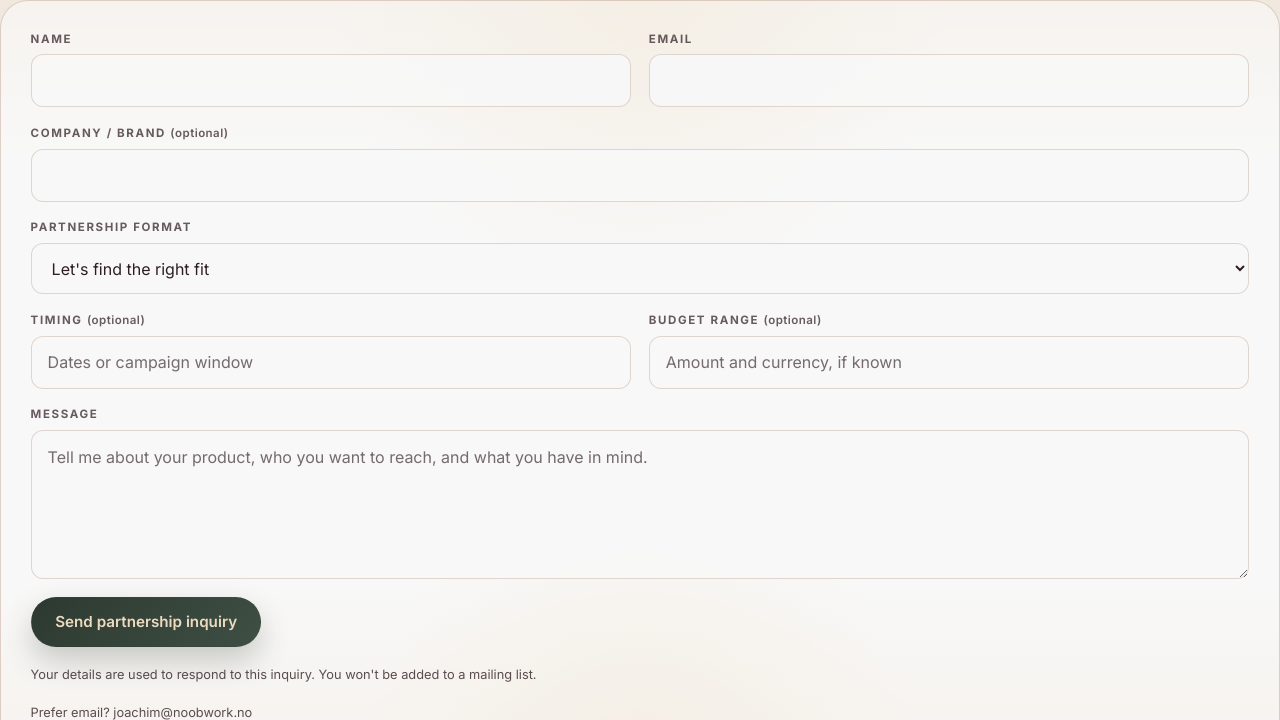
Test: ContactForm › shows success state after a successful submit
The width and height of the screenshot is (1280, 720).
Type "Alex Brand" into the field labelled "Name" at (331, 81), box left=31, top=54, right=631, bottom=108
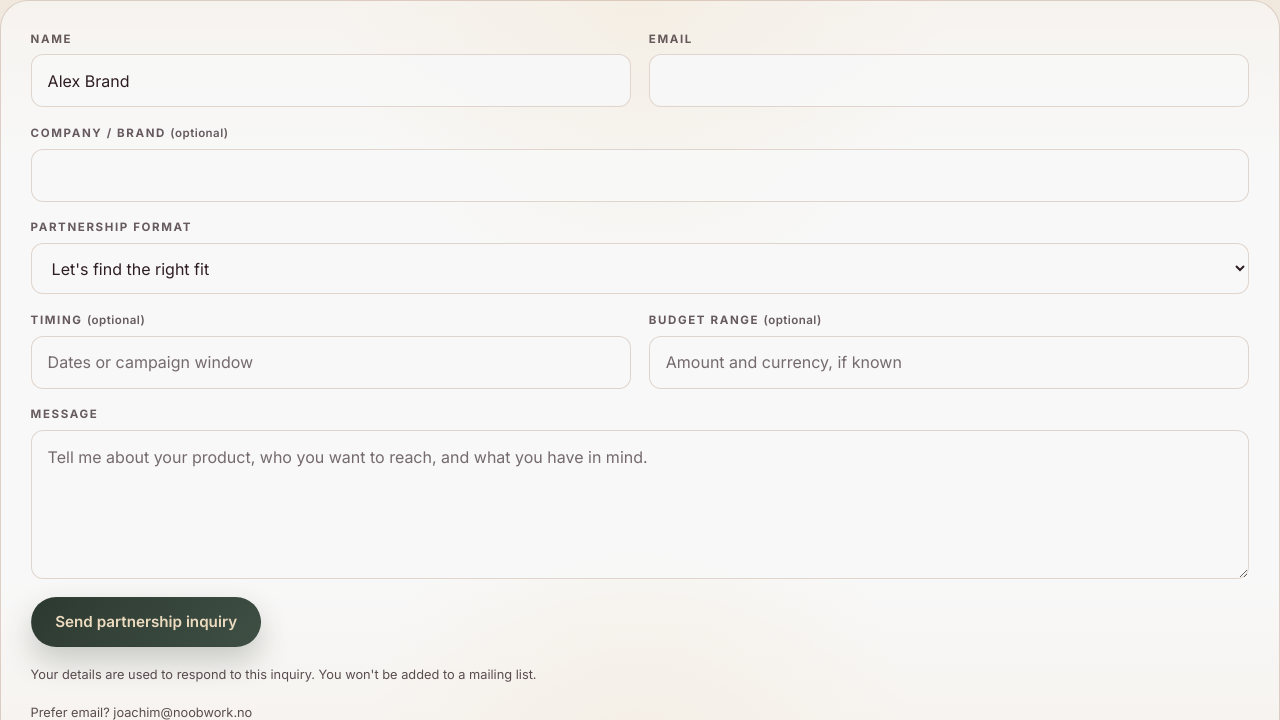
Type "alex@brand.no" into the field labelled "Email" at (949, 81), box left=649, top=54, right=1249, bottom=108
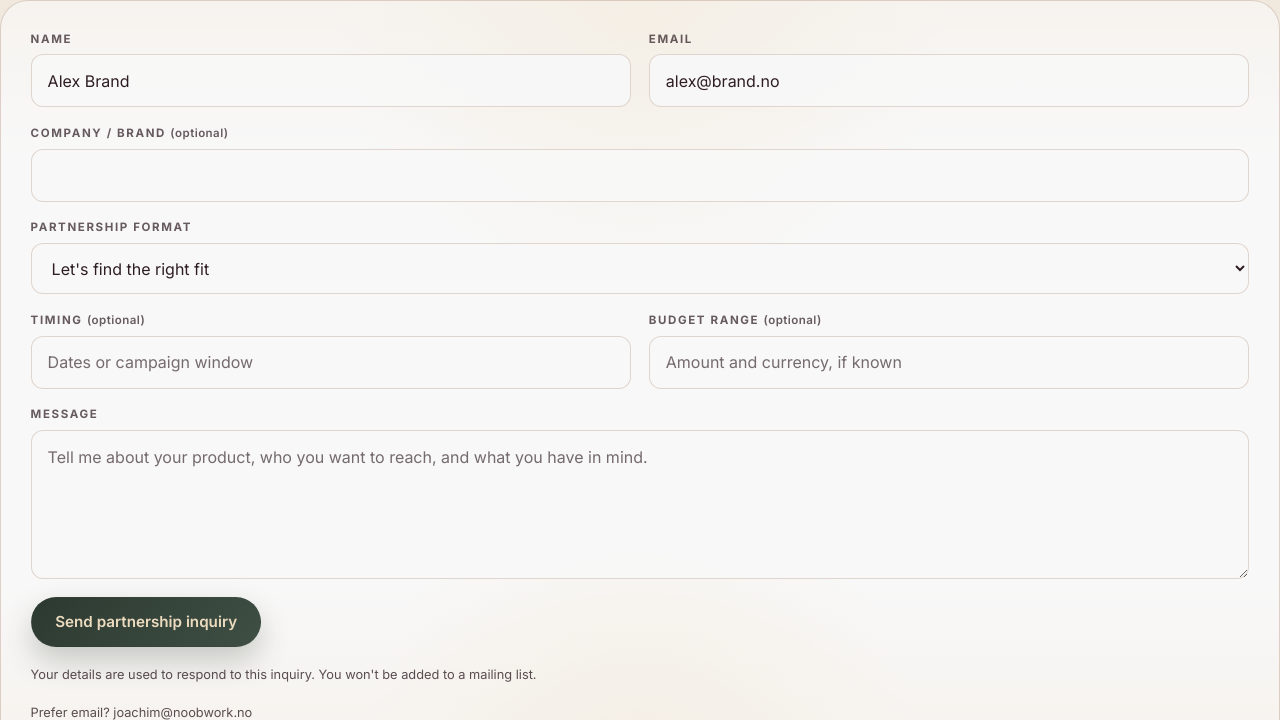
Replace the text in the text box labelled "Message" with "We would love to explore a Q3 campaign across YouTube and IG." at (640, 505), box left=31, top=430, right=1249, bottom=579
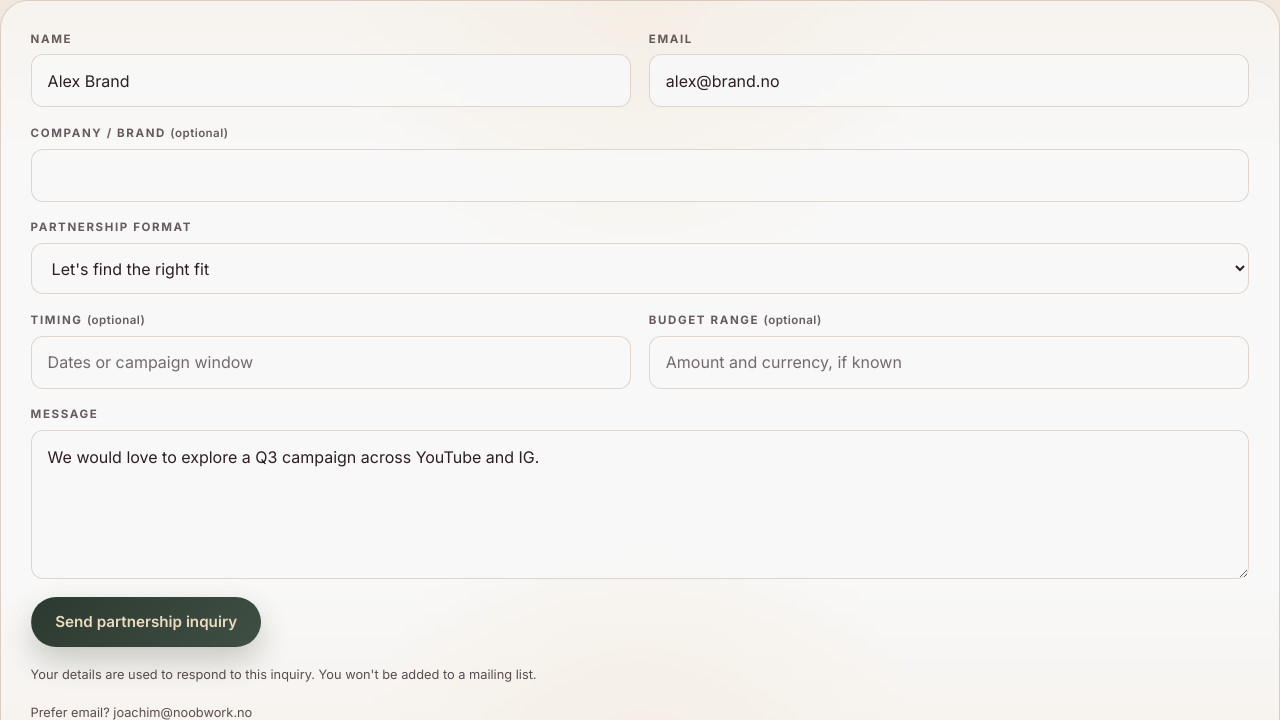
Click the button "Send partnership inquiry" at (146, 622), box left=31, top=597, right=261, bottom=647
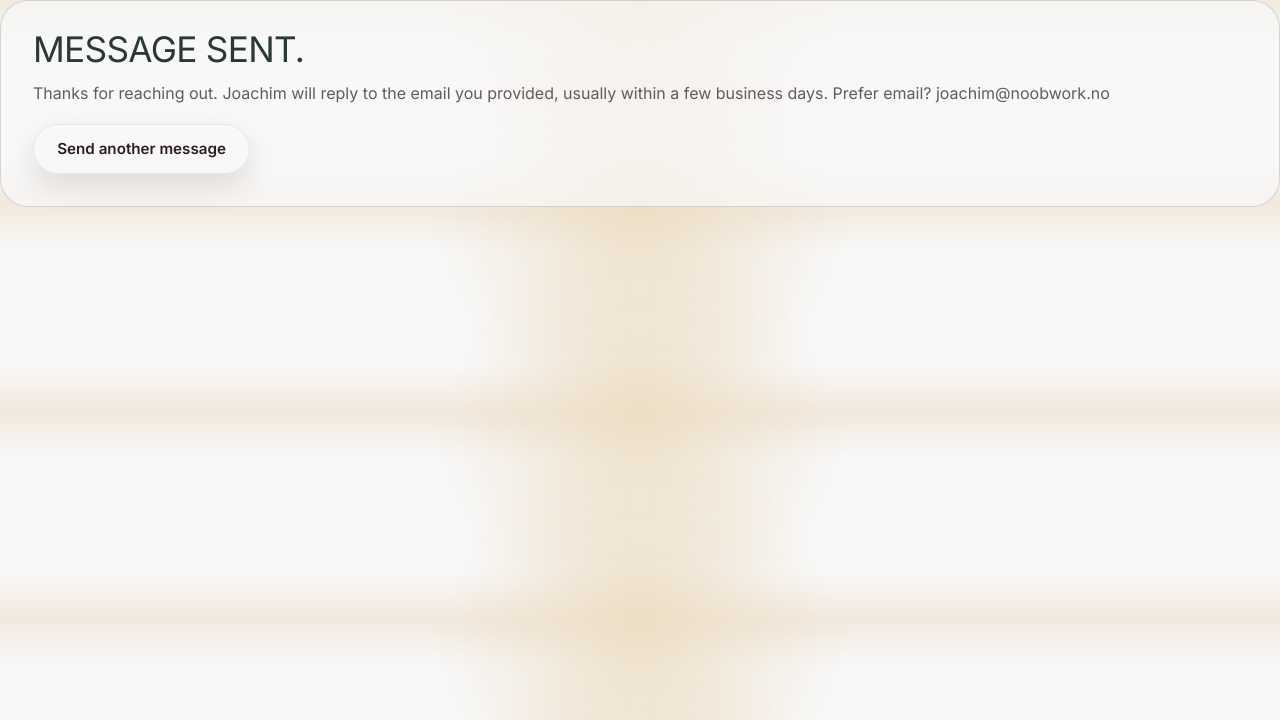
Now the text "Message sent." is shown, box left=33, top=28, right=304, bottom=70
Now the text "usually within a few business days" is shown, box left=33, top=83, right=932, bottom=103
